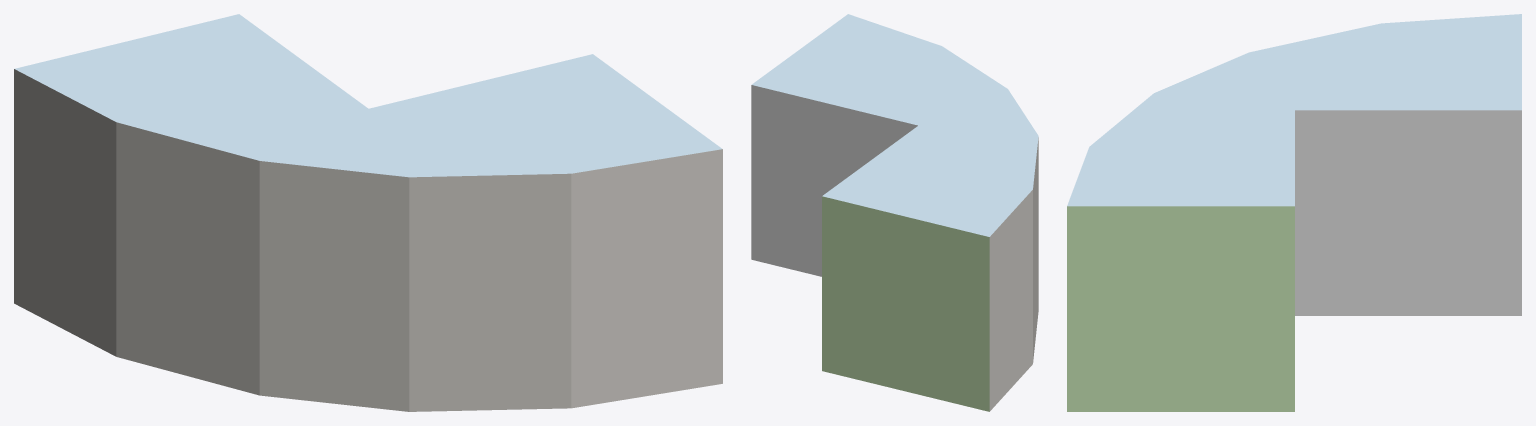
File: Wall_Curve_Outer_3x3_Mid.glb
3 renders of one model, left to right at view 1: azimuth 30°, elevation 25°; view 2: azimuth 150°, elevation 25°; view 3: azimuth 270°, elevation 25°, orthographic. The views are drawn at different scales.
Visible parts, largest first — view 1: Wall_Curve_Outer_3x3_Mid; view 2: Wall_Curve_Outer_3x3_Mid; view 3: Wall_Curve_Outer_3x3_Mid.
Part boxes in pixels (box(x1,y1,x2,y2)): Wall_Curve_Outer_3x3_Mid: box(14, 14, 722, 411); Wall_Curve_Outer_3x3_Mid: box(751, 14, 1038, 411); Wall_Curve_Outer_3x3_Mid: box(1067, 14, 1521, 411).
Size of the model in its own units: 200 by 100 by 200.
